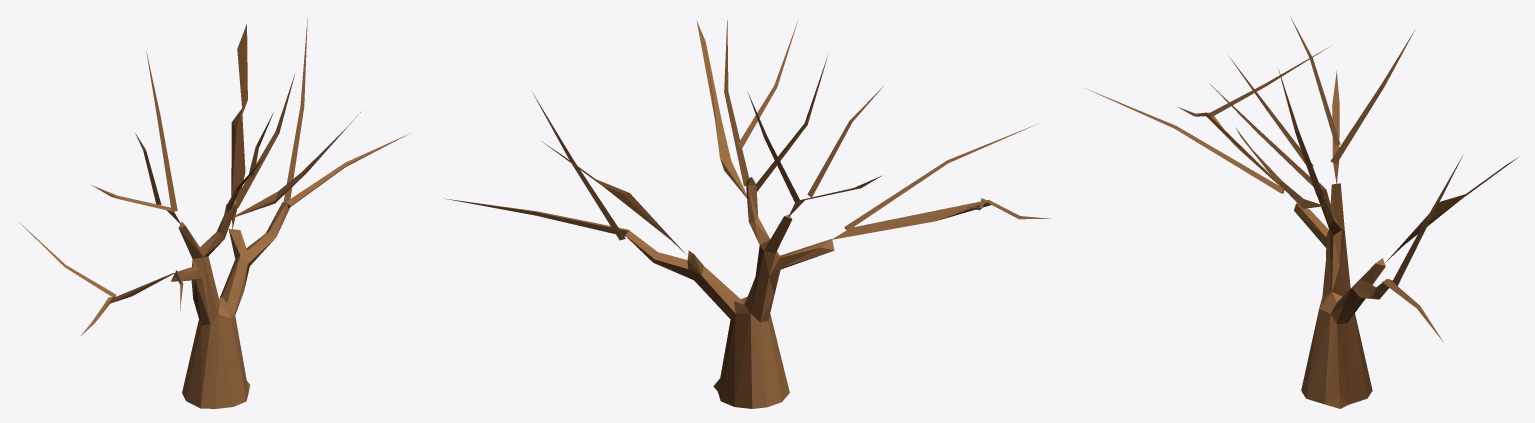
File: jacaranda_var_bare_far.glb
3 views of the same model, side by side, from view 1: azimuth 30°, elevation 25°; view 2: azimuth 150°, elevation 25°; view 3: azimuth 270°, elevation 25° (orthographic). The views are drawn at different scales.
Parts seen in each view (by area): view 1: jacaranda_var_bare_far; view 2: jacaranda_var_bare_far; view 3: jacaranda_var_bare_far.
Part boxes in pixels (x1,y1,x2,y2): jacaranda_var_bare_far: (18,18,410,408); jacaranda_var_bare_far: (443,20,1050,408); jacaranda_var_bare_far: (1086,16,1518,408).
Bounding box in the file's own units: 8.45 × 5.82 × 6.61.
